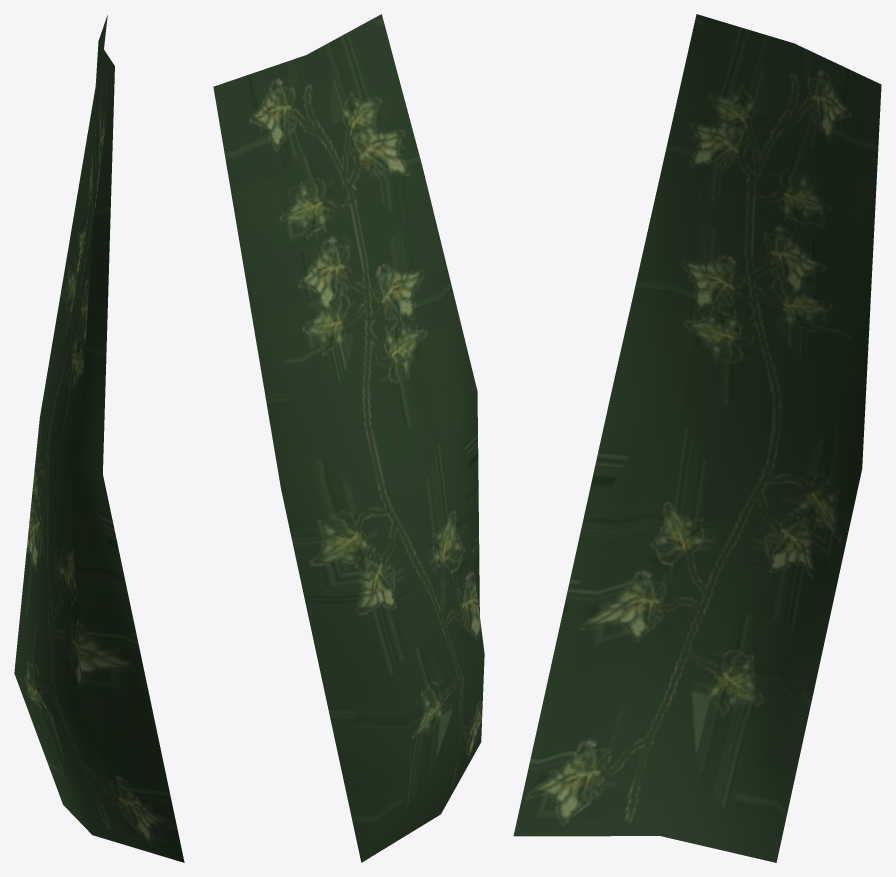
File: Klimop1.fbx
3 views of the same model, side by side, from view 1: azimuth 30°, elevation 25°; view 2: azimuth 150°, elevation 25°; view 3: azimuth 270°, elevation 25° (orthographic). The views are drawn at different scales.
Parts seen in each view (by area): view 1: Klimop2; view 2: Klimop2; view 3: Klimop2.
Boxes of the visible parts, bbox=[...] form: Klimop2: bbox=[14, 15, 184, 862]; Klimop2: bbox=[213, 14, 484, 862]; Klimop2: bbox=[513, 14, 881, 862].
Size of the model in its own units: 0.8665 by 4.38 by 1.7.
Materials: 1 (1 with a texture image).
